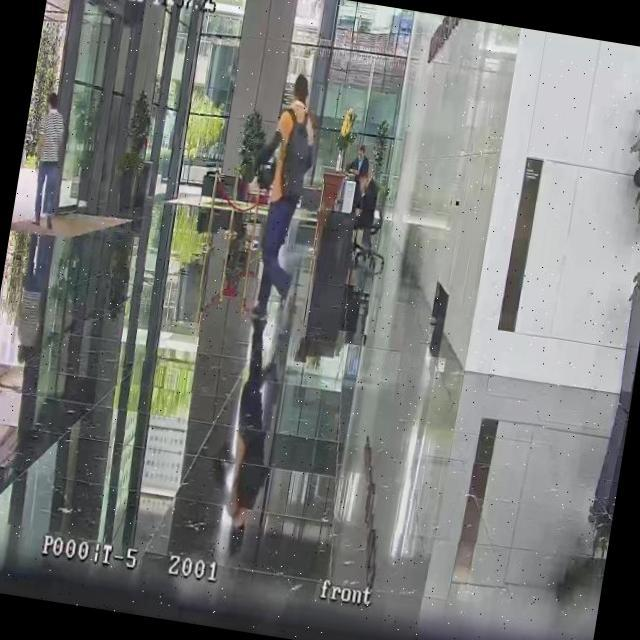person: (233, 70, 329, 326), (24, 89, 76, 229), (343, 142, 375, 212)
